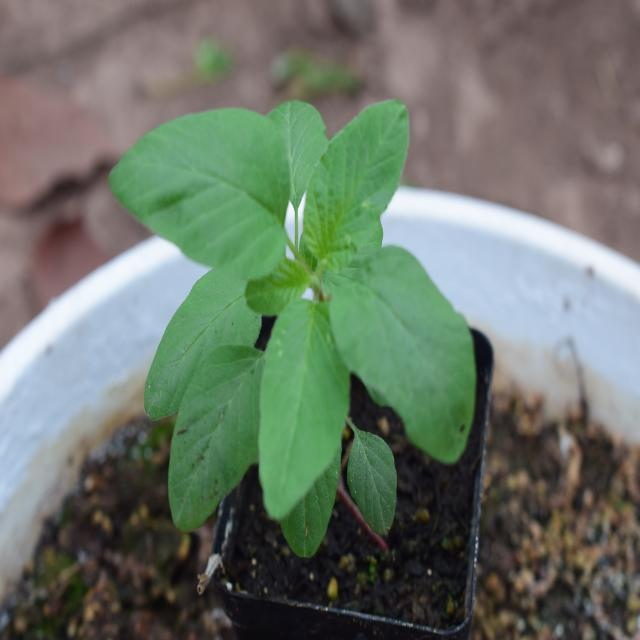pigweed: (118, 86, 471, 525)
